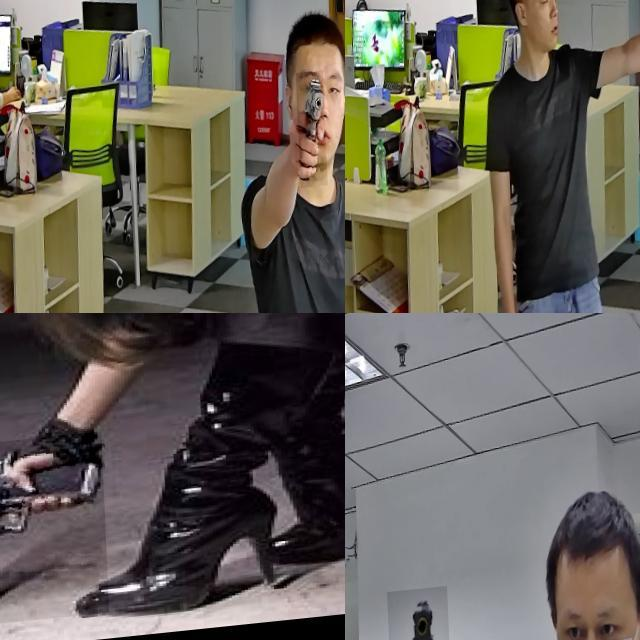gun-knife-thesis - v11 Yolov5 augmented: (0, 437, 103, 634), (293, 79, 324, 196), (383, 592, 449, 640)
